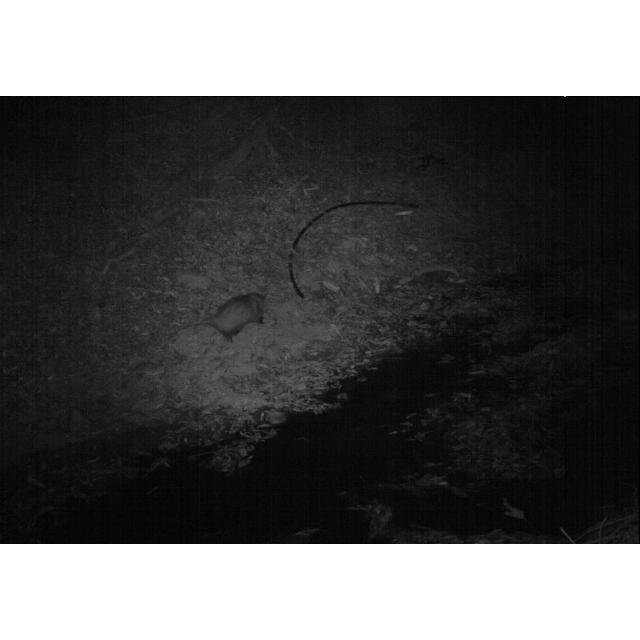animals: (185, 286, 275, 338)
